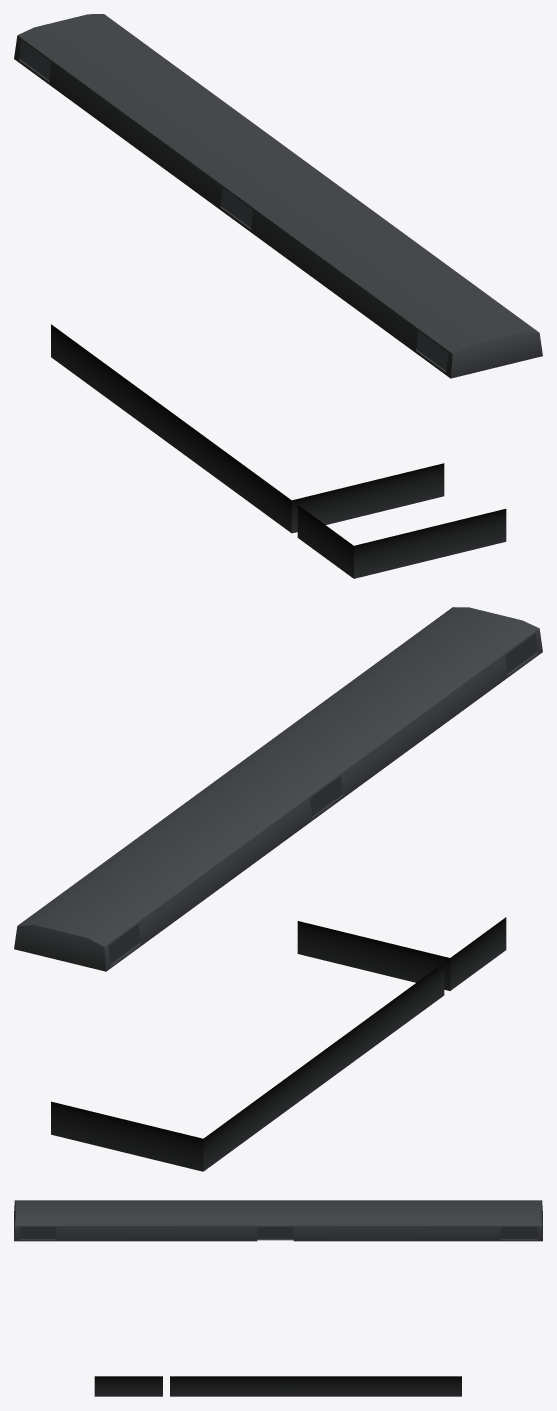
The model's file is UV_PANTA02.glb.
3 renders of one model, top to bottom at view 1: azimuth 30°, elevation 25°; view 2: azimuth 150°, elevation 25°; view 3: azimuth 270°, elevation 25°, orthographic. The views are drawn at different scales.
Visible parts, largest first — view 1: FRAME_ROOT; view 2: FRAME_ROOT; view 3: FRAME_ROOT.
Boxes of the visible parts, x1,y1,x2,y2 form: FRAME_ROOT: (14, 14, 542, 578); FRAME_ROOT: (14, 607, 542, 1171); FRAME_ROOT: (14, 1200, 542, 1396).
Size of the model in its own units: 4.96 by 8.38 by 24.6.
1 material, 1 textured.
